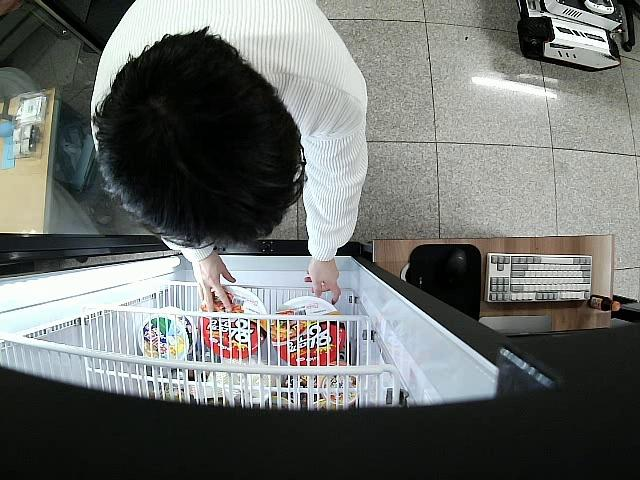00_hand: (191, 251, 237, 311), (305, 260, 341, 303)
10_wangTtukkeong: (272, 297, 346, 366), (200, 286, 269, 357)
